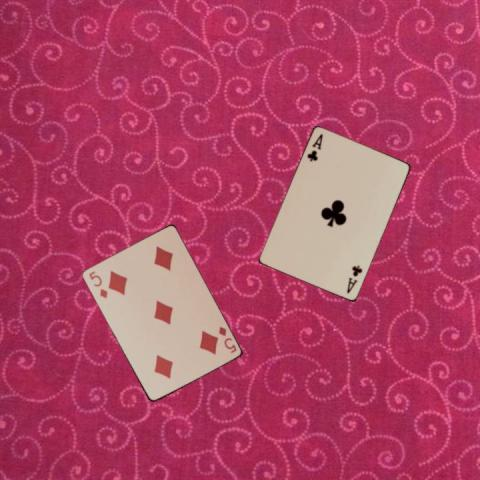5d: (85, 268, 109, 300), (215, 323, 238, 355)
Ac: (344, 262, 364, 294), (304, 132, 324, 164)
